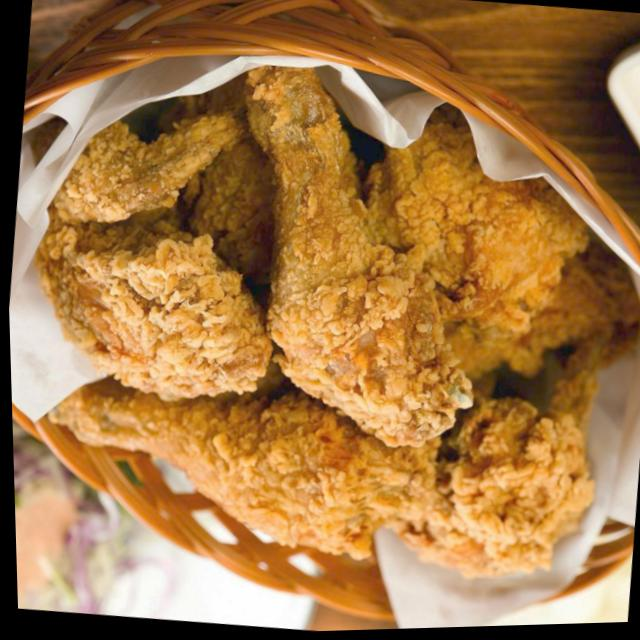fried_chicken: (212, 57, 510, 460), (23, 73, 304, 407), (349, 103, 604, 409), (41, 369, 387, 565), (316, 384, 605, 596)
